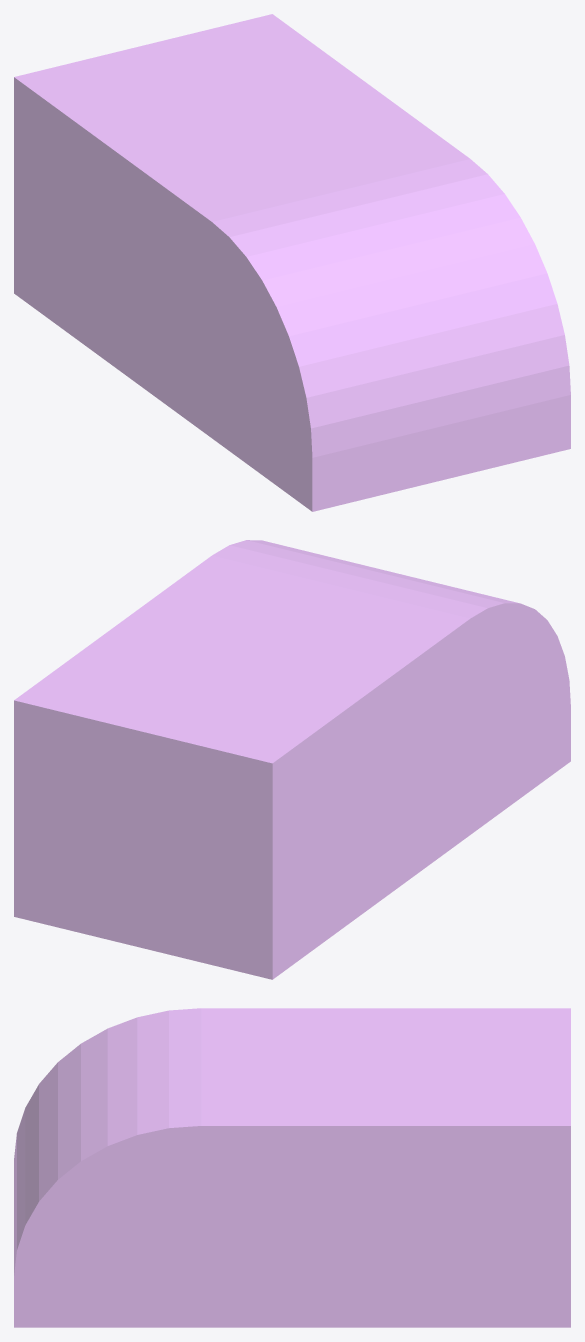
3 renders of one model, top to bottom at view 1: azimuth 30°, elevation 25°; view 2: azimuth 150°, elevation 25°; view 3: azimuth 270°, elevation 25°, orthographic. The views are drawn at different scales.
Visible parts, largest first — view 1: Cube; view 2: Cube; view 3: Cube.
Boxes of the visible parts, left/top/right/bottom form: Cube: left=14, top=14, right=570, bottom=511; Cube: left=14, top=540, right=570, bottom=979; Cube: left=14, top=1008, right=570, bottom=1327.
Bounding box in the file's own units: 2 × 1.6 × 4.
